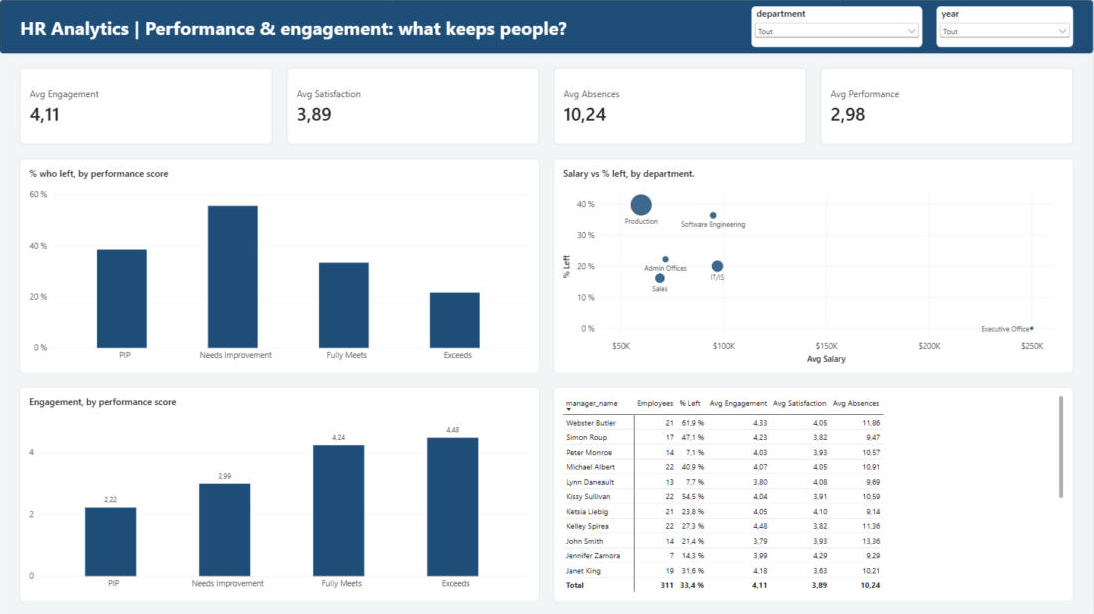

The dashboard page shown, as its layout file describes it:
{"tool":"powerbi","page":{"name":"Performance","canvas":[1920,1080],"ordinal":4},"visuals":[{"type":"shape","box":[0,0,1920,96],"z":0},{"type":"cardVisual","fields":{"Data":["_Measures.Avg Engagement"]},"box":[36,120,444,135],"z":3000},{"type":"cardVisual","fields":{"Data":["_Measures.Avg Satisfaction"]},"box":[504,120,444,135],"z":4000},{"type":"cardVisual","fields":{"Data":["_Measures.Avg Absences"]},"box":[972,120,444,135],"z":5000},{"type":"cardVisual","fields":{"Data":["_Measures.Avg Performance"]},"box":[1440,120,444,135],"z":6000},{"type":"clusteredColumnChart","title":"% who left, by performance score","fields":{"Category":["fact_employment.performance_score"],"Y":["_Measures.% Left"]},"box":[36,279,912,377],"z":7000},{"type":"clusteredColumnChart","title":"Engagement, by performance score","fields":{"Category":["fact_employment.performance_score"],"Y":["_Measures.Avg Engagement"]},"box":[36,680,912,377],"z":8000},{"type":"scatterChart","title":"Salary vs % left, by department.","fields":{"Category":["dim_department.department_name"],"Size":["_Measures.Employees"],"X":["_Measures.Avg Salary"],"Y":["_Measures.% Left"]},"box":[972,279,912,377],"z":9000},{"type":"pivotTable","fields":{"Rows":["dim_manager.manager_name"],"Values":["_Measures.Employees","_Measures.% Left","_Measures.Avg Engagement","_Measures.Avg Satisfaction","_Measures.Avg Absences"]},"box":[972,680,912,377],"z":10000},{"type":"slicer","fields":{"Values":["dim_date.year"]},"box":[1644,12,240,72],"z":10001},{"type":"slicer","fields":{"Values":["dim_department.department_name"]},"box":[1320,12,300,72],"z":10002}]}

Visuals, with their boxes in screenshot pixels (x1, y1, x2, y2), scaled from the page's 1920x1080 canvas onto the 1094x614 screenshot:
shape: box(0, 0, 1093, 55)
cardVisual - _Measures.Avg Engagement: box(21, 68, 274, 145)
cardVisual - _Measures.Avg Satisfaction: box(287, 68, 540, 145)
cardVisual - _Measures.Avg Absences: box(554, 68, 807, 145)
cardVisual - _Measures.Avg Performance: box(820, 68, 1073, 145)
"% who left, by performance score" clusteredColumnChart: box(21, 159, 540, 373)
"Engagement, by performance score" clusteredColumnChart: box(21, 387, 540, 601)
"Salary vs % left, by department." scatterChart: box(554, 159, 1073, 373)
pivotTable - dim_manager.manager_name x _Measures.Employees: box(554, 387, 1073, 601)
slicer - dim_date.year: box(937, 7, 1073, 48)
slicer - dim_department.department_name: box(752, 7, 923, 48)
